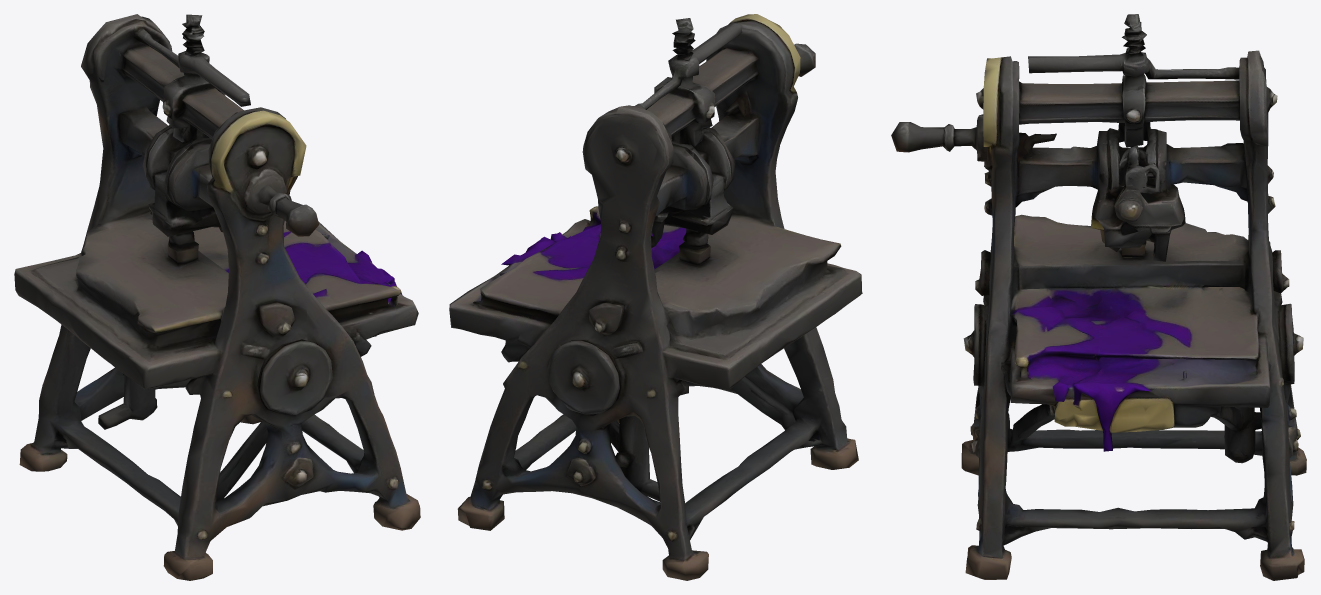
Rendered from arch_press.glb.
3 renders of one model, left to right at view 1: azimuth 30°, elevation 25°; view 2: azimuth 150°, elevation 25°; view 3: azimuth 270°, elevation 25°, orthographic. The views are drawn at different scales.
Visible parts, largest first — view 1: tripo_node_9cf0aae9-6fa1-41da-b93e-c0a7e9e83f29; view 2: tripo_node_9cf0aae9-6fa1-41da-b93e-c0a7e9e83f29; view 3: tripo_node_9cf0aae9-6fa1-41da-b93e-c0a7e9e83f29.
Boxes of the visible parts, <box> form: tripo_node_9cf0aae9-6fa1-41da-b93e-c0a7e9e83f29: <box>14,14,420,580</box>; tripo_node_9cf0aae9-6fa1-41da-b93e-c0a7e9e83f29: <box>449,14,862,580</box>; tripo_node_9cf0aae9-6fa1-41da-b93e-c0a7e9e83f29: <box>891,14,1306,580</box>.
Bounding box in the file's own units: 0.6309 × 1 × 0.7662.
1 material, 1 textured.
